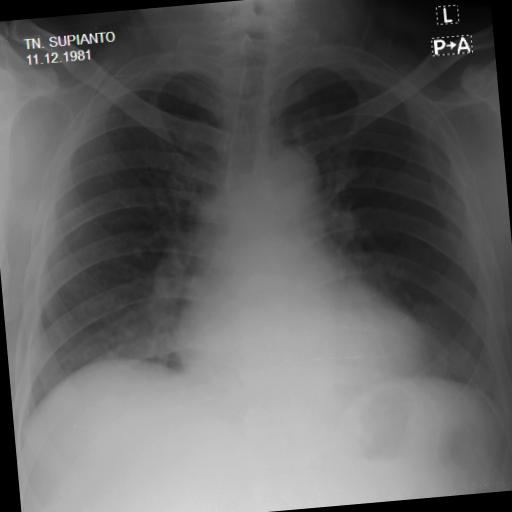kardiomegali: (0, 21, 512, 463)
